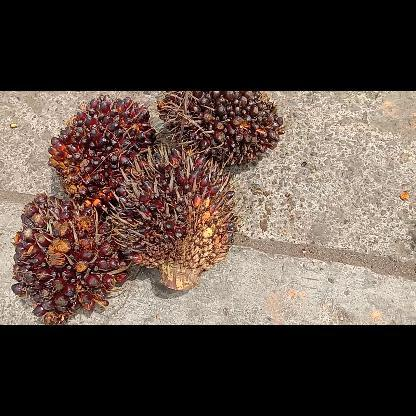Kurang masak: (108, 145, 240, 296), (10, 190, 131, 324), (44, 96, 160, 212), (154, 91, 288, 169)
